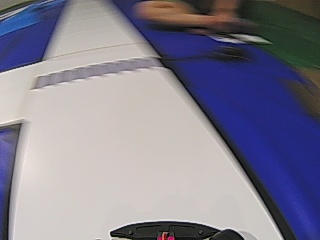CrossWalk: (37, 59, 153, 82)
